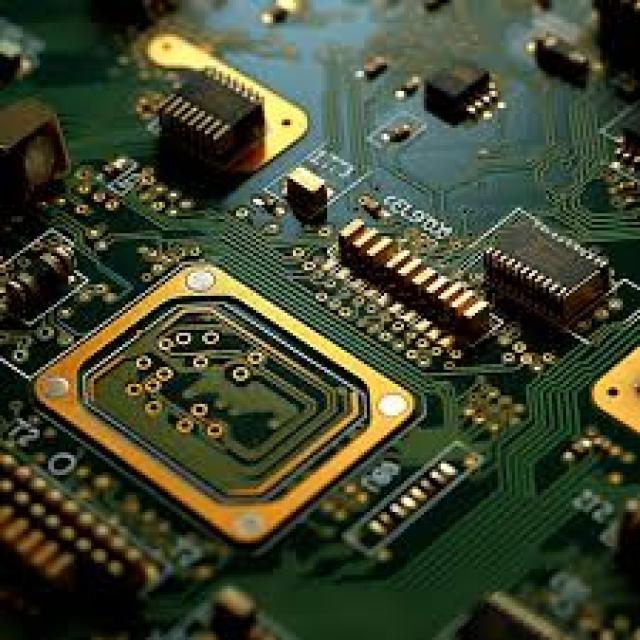pcb: (0, 0, 637, 637), (31, 256, 421, 555), (475, 205, 614, 330)
